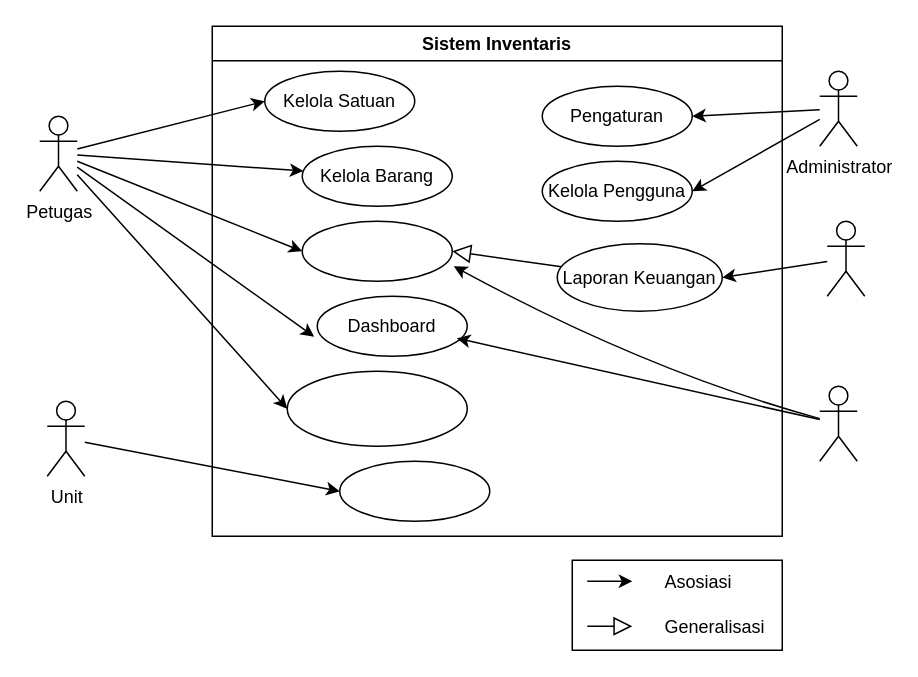
The diagram is 918 pixels wide and 677 high, and some of its shapes have lost their labels. Here are the shapes that lost their labels. From the top down, the centre of each, then its label:
At (x=376, y=250): "Laporan".
At (x=845, y=258): "Bendahara".
At (x=376, y=408): "Terima Permintaan Barang".
At (x=837, y=423): "Direktur".
At (x=414, y=490): "Meminta Barang".
